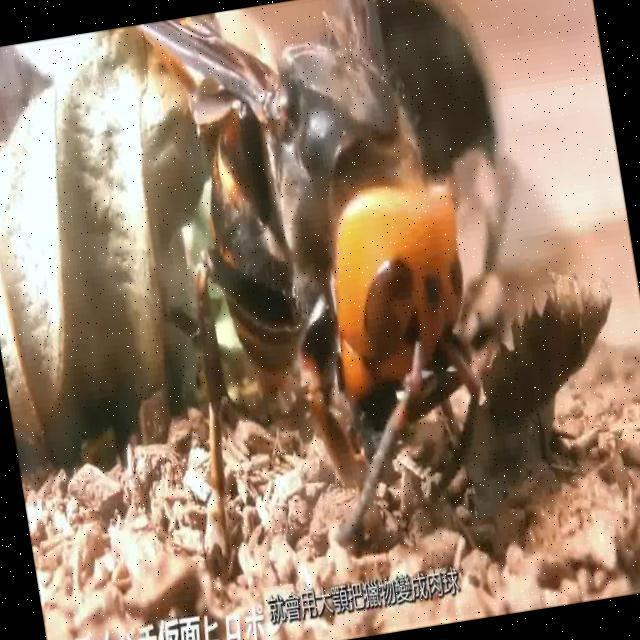Wasp: (169, 14, 478, 450)
